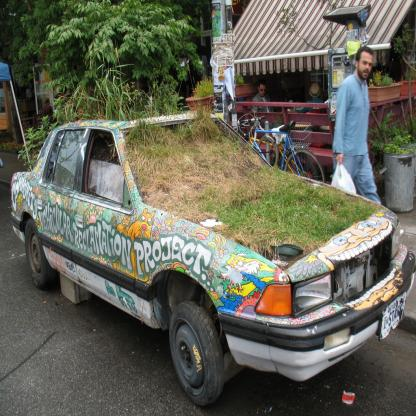Car: (11, 113, 416, 407)
